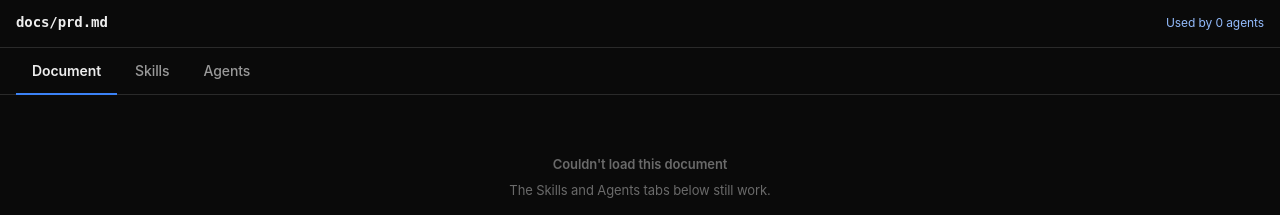
DocViewer — a load failure keeps the tabs usable (module interaction table) › shows the doc load error on the Document tab and still switches to Agents
Expected: the text "Couldn't load this document" is shown, [553,156,727,172]
Click the button "Agents". click: (227, 72)
box: [188,48,266,95]
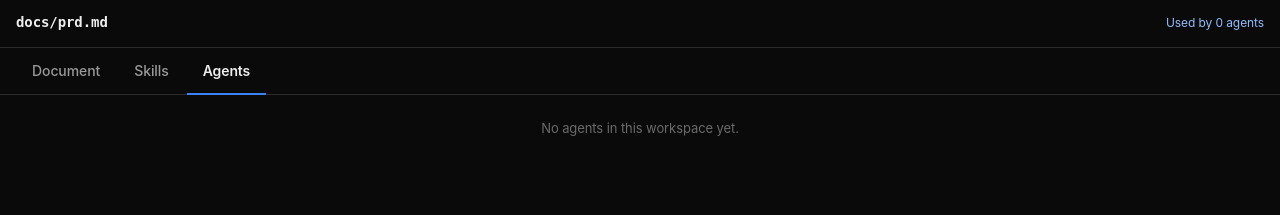
Result: the text "No agents in this workspace yet." is shown at [541,120,739,136]
